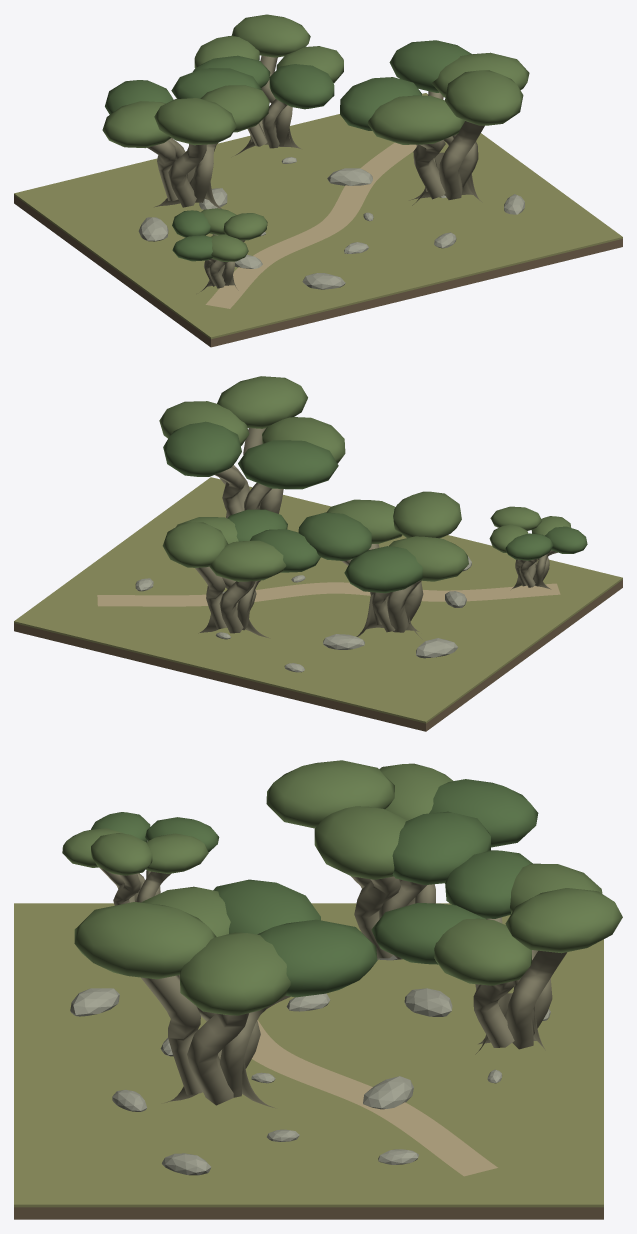
The model's file is gms-51.glb.
3 renders of one model, top to bottom at view 1: azimuth 30°, elevation 25°; view 2: azimuth 150°, elevation 25°; view 3: azimuth 270°, elevation 25°, orthographic. The views are drawn at different scales.
Visible parts, largest first — view 1: GMS-51 - estudio del paisaje; view 2: GMS-51 - estudio del paisaje; view 3: GMS-51 - estudio del paisaje.
Part boxes in pixels (x1,y1,x2,y2): GMS-51 - estudio del paisaje: (14, 14, 622, 347); GMS-51 - estudio del paisaje: (14, 376, 622, 731); GMS-51 - estudio del paisaje: (14, 760, 622, 1219).
Size of the model in its own units: 11.6 by 4.29 by 9.91.
